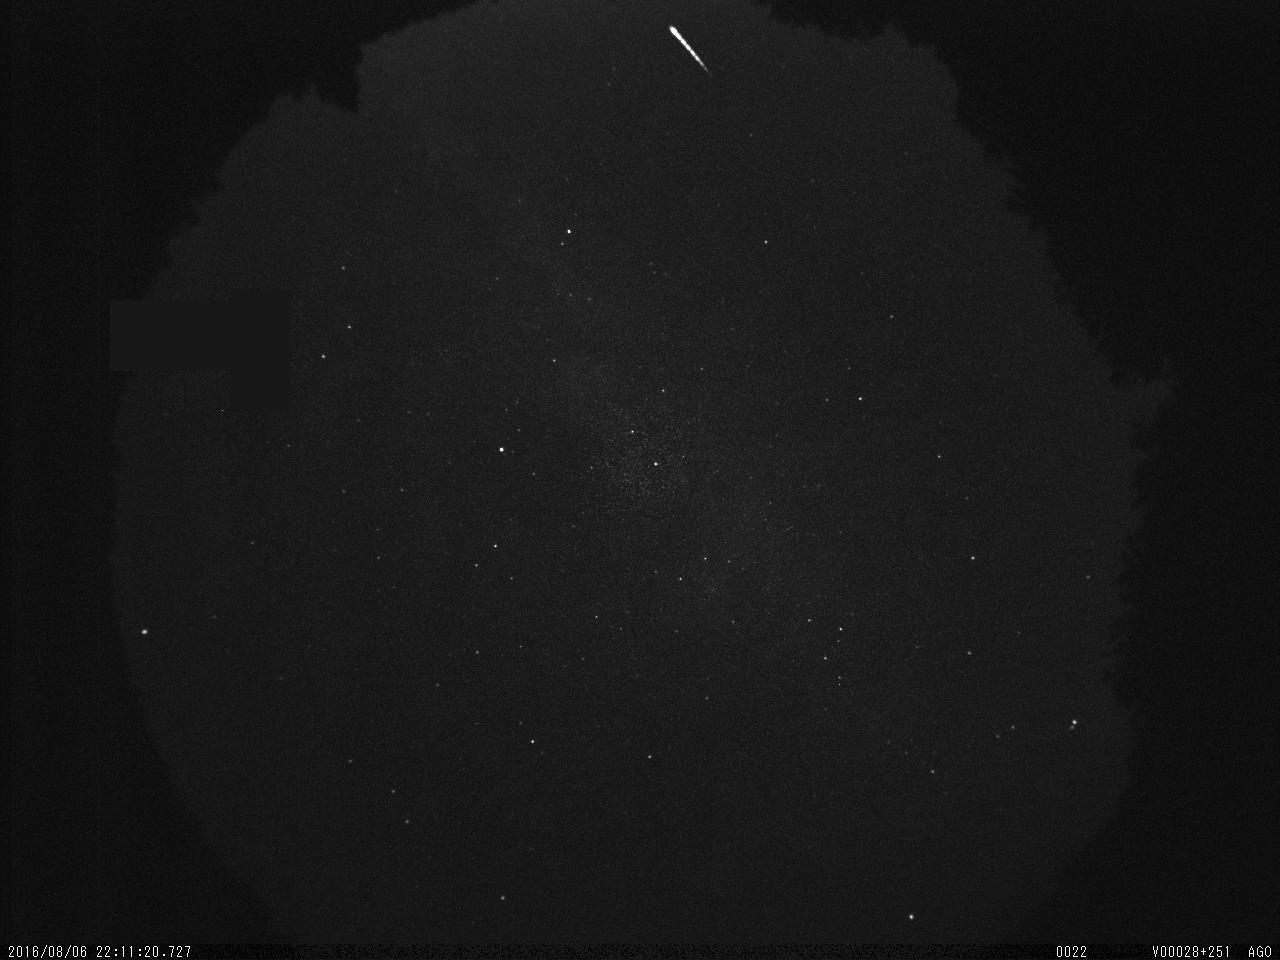meteor: (637, 5, 726, 89)
